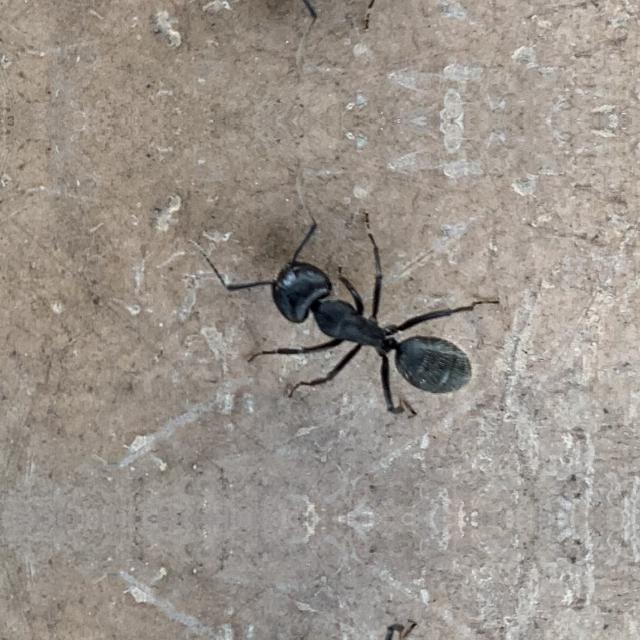Camponotus: (208, 232, 504, 416)
